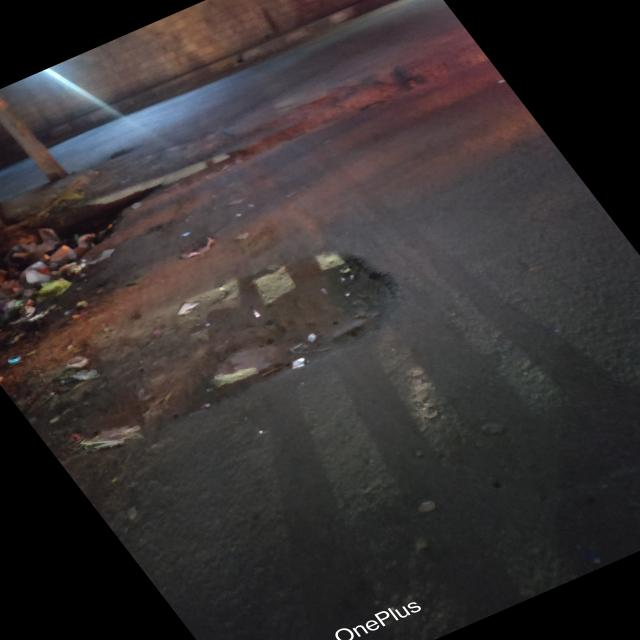potholes: (14, 243, 407, 446)
